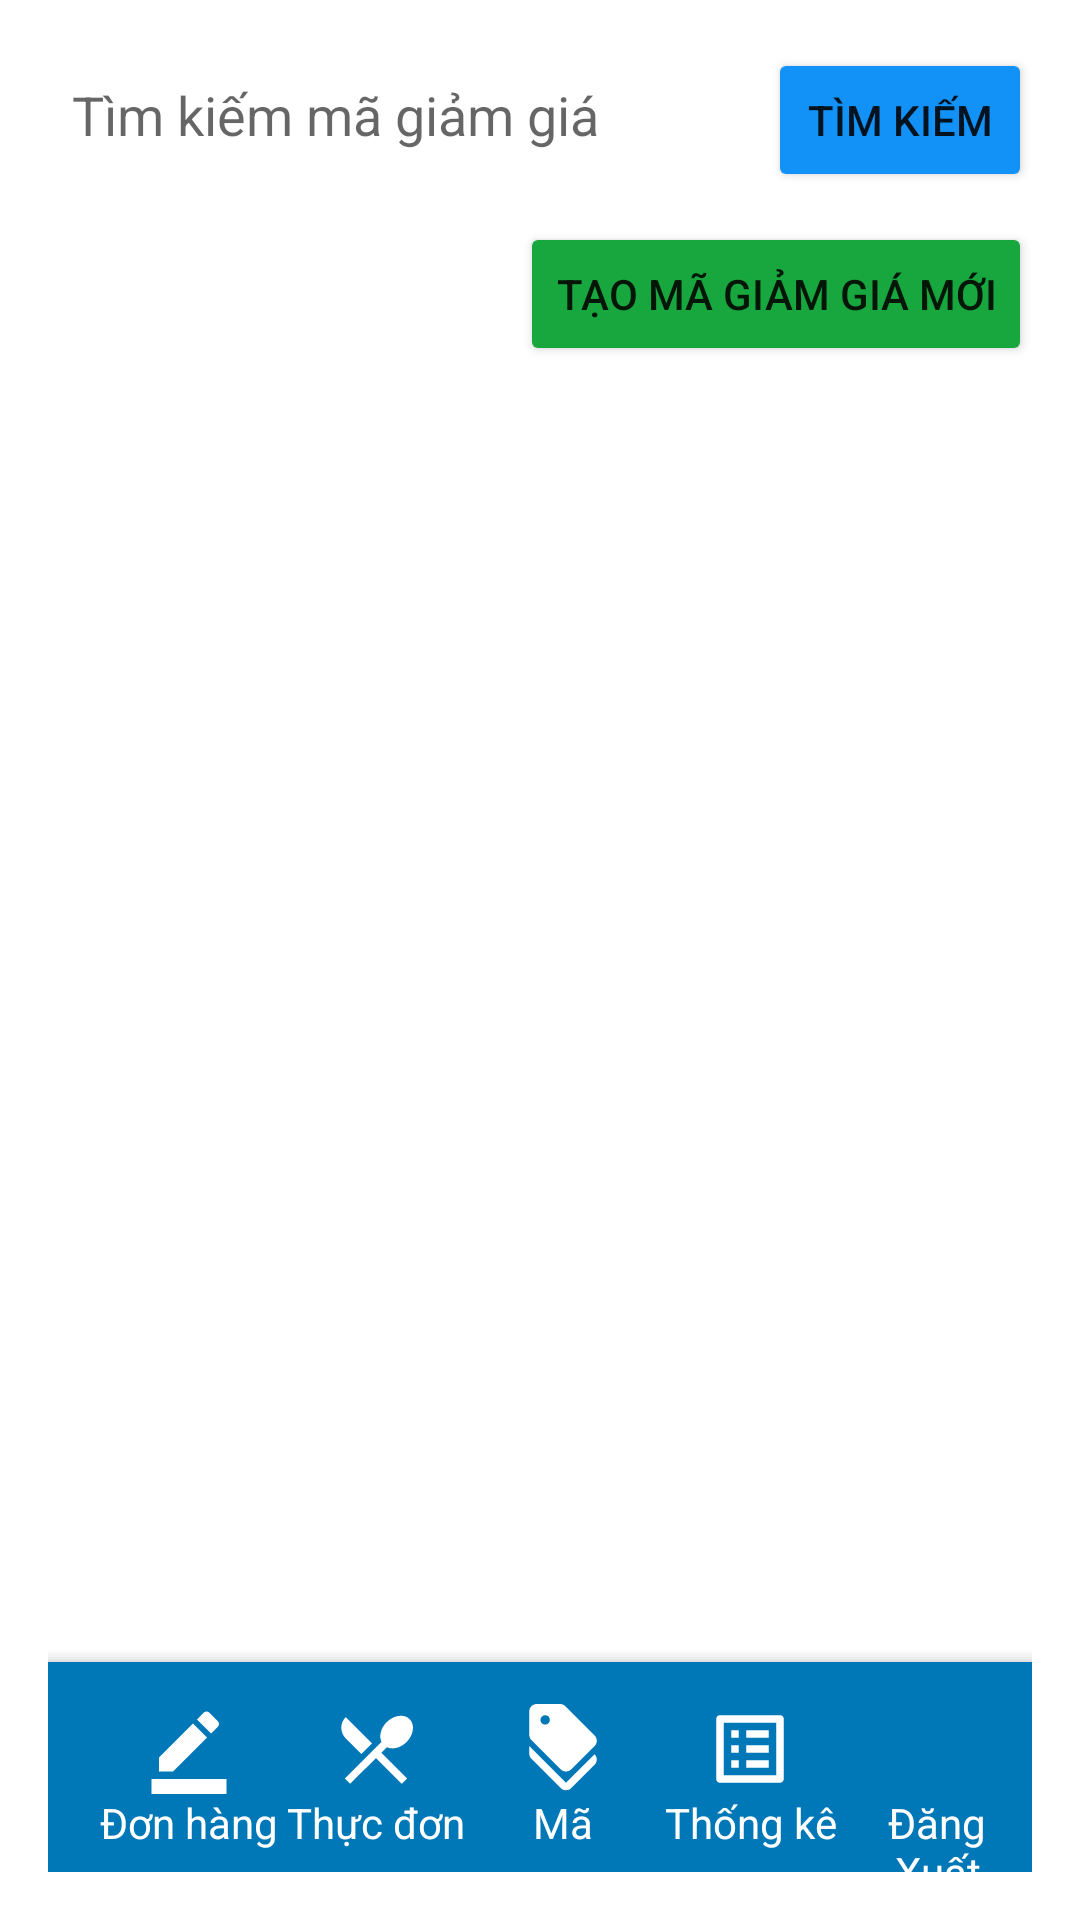

Screen size 1080px×1920px. Icon name, then its box in pixels as box(x1, y1, x2, y2):
discount: box(529, 1704, 597, 1791)
list: box(716, 1715, 784, 1783)
